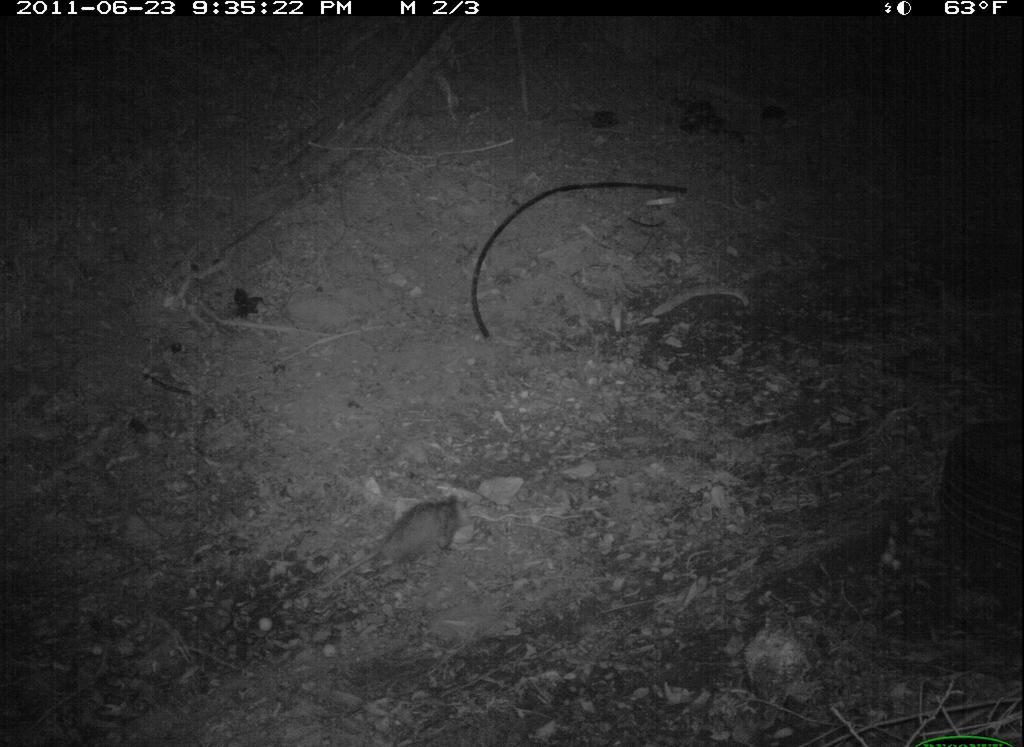opossum: (301, 489, 482, 589)
